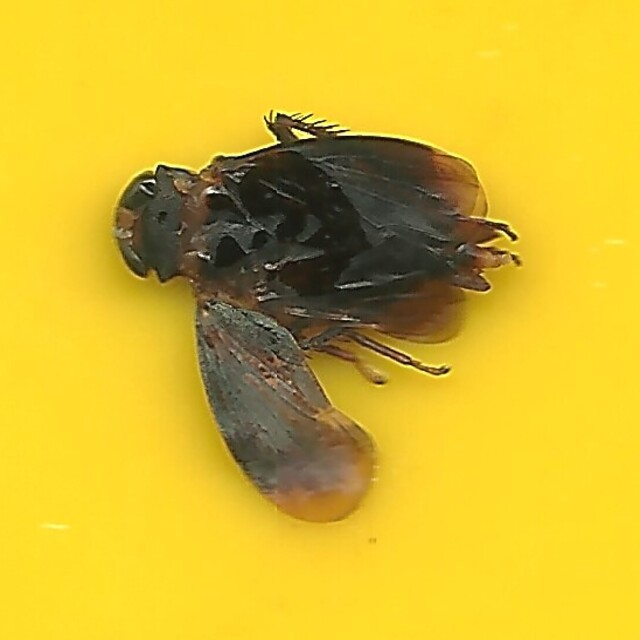Hemiptera: (117, 113, 523, 527)
